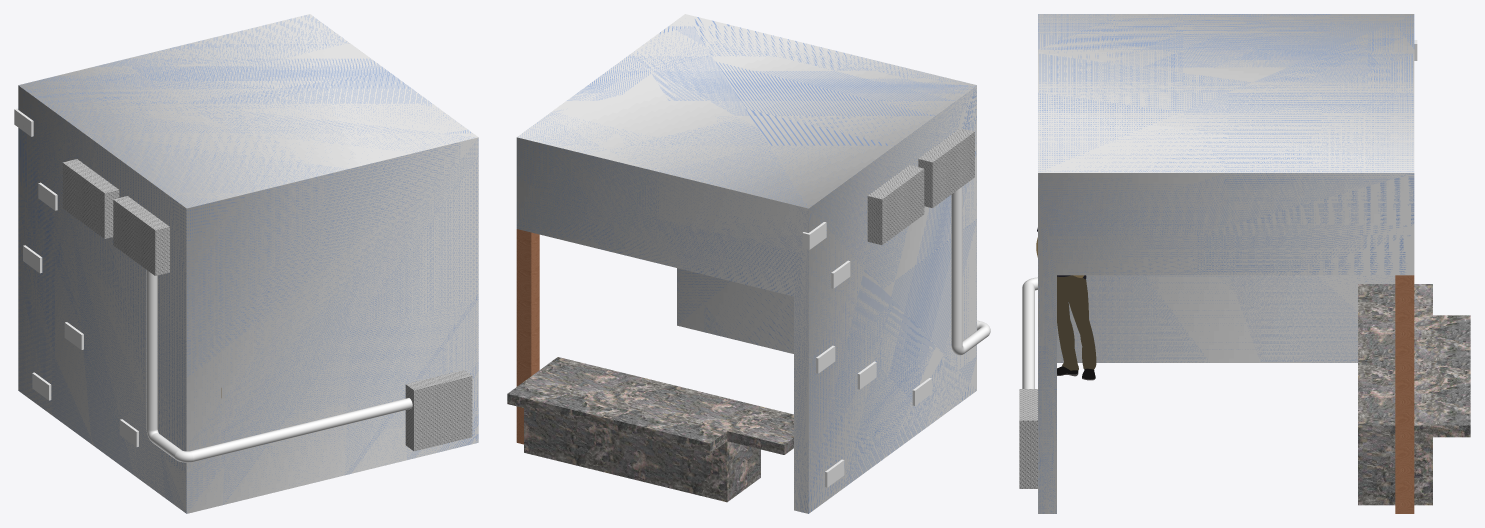
File: hut2.dae
3 renders of one model, left to right at view 1: azimuth 30°, elevation 25°; view 2: azimuth 150°, elevation 25°; view 3: azimuth 270°, elevation 25°, orthographic. The views are drawn at different scales.
Parts seen in each view (by area): view 1: group_0, SketchUp, group_6, group_4, group_5; view 2: group_0, group_2, group_1, group_5, group_4, SketchUp, group_3; view 3: group_0, group_2, group_1, Chris, group_6, group_3, SketchUp.
Part boxes in pixels (x1,y1,x2,y2): group_0: (18, 14, 478, 513); SketchUp: (146, 270, 412, 462); group_6: (405, 370, 472, 451); group_4: (113, 196, 169, 275); group_5: (62, 159, 119, 238); group_0: (516, 14, 976, 513); group_2: (507, 357, 760, 502); group_1: (516, 229, 539, 444); group_5: (867, 165, 924, 244); group_4: (918, 128, 974, 208); SketchUp: (951, 186, 990, 355); group_3: (727, 406, 793, 454); group_0: (1038, 14, 1414, 513); group_2: (1358, 315, 1470, 505); group_1: (1395, 275, 1414, 513); Chris: (1057, 275, 1096, 370); group_6: (1019, 389, 1037, 488); group_3: (1358, 284, 1432, 315); SketchUp: (1022, 277, 1037, 388).
Bounding box in the file's own units: 126 × 144 × 120.
